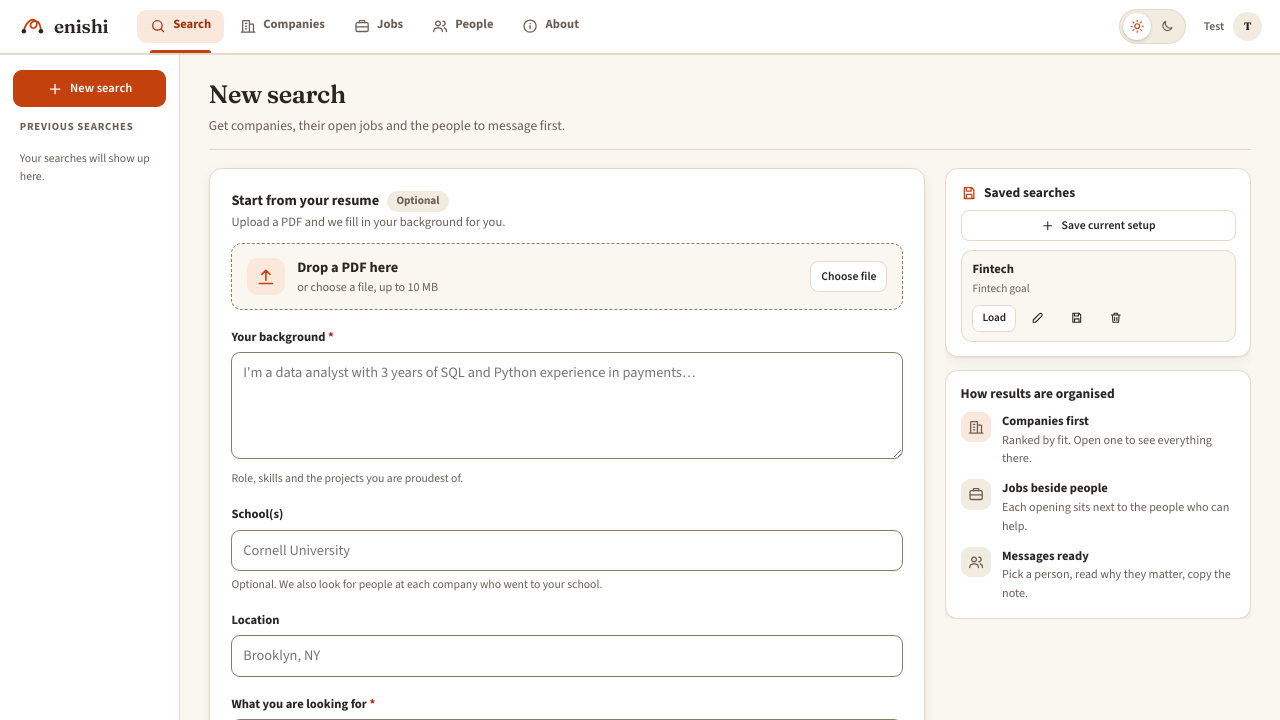
Test case: search configurations panel › renames inline: empty names are refused and Escape cancels
Click the button named "Rename Fintech": (1038, 318) x1=1022 y1=305 x2=1055 y2=332
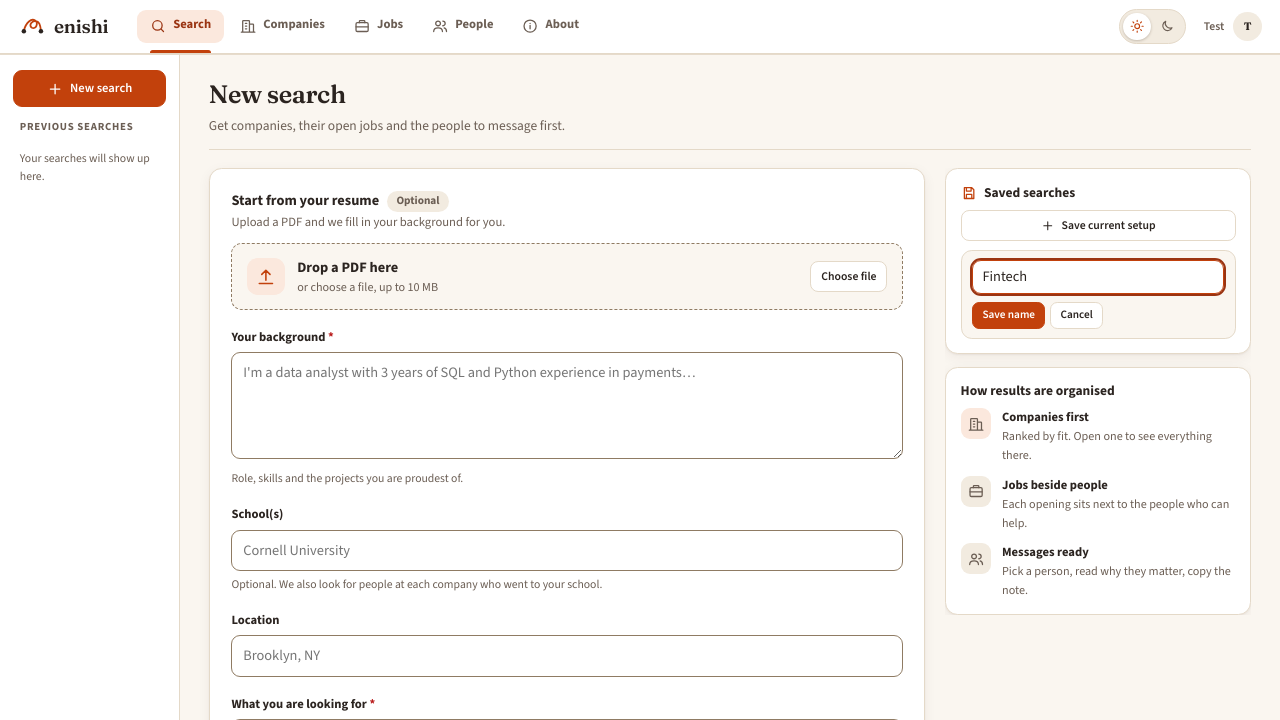
Clear the field named "Configuration name": (1098, 277) x1=972 y1=260 x2=1224 y2=294
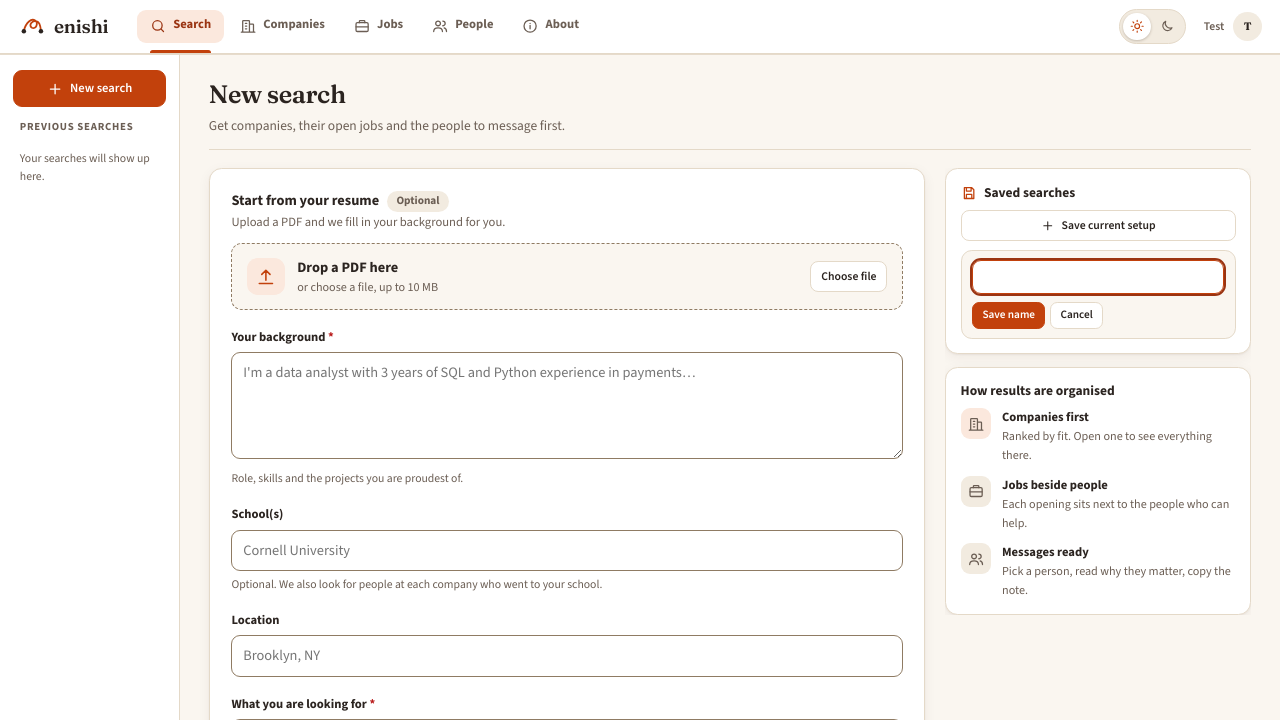
Press Enter
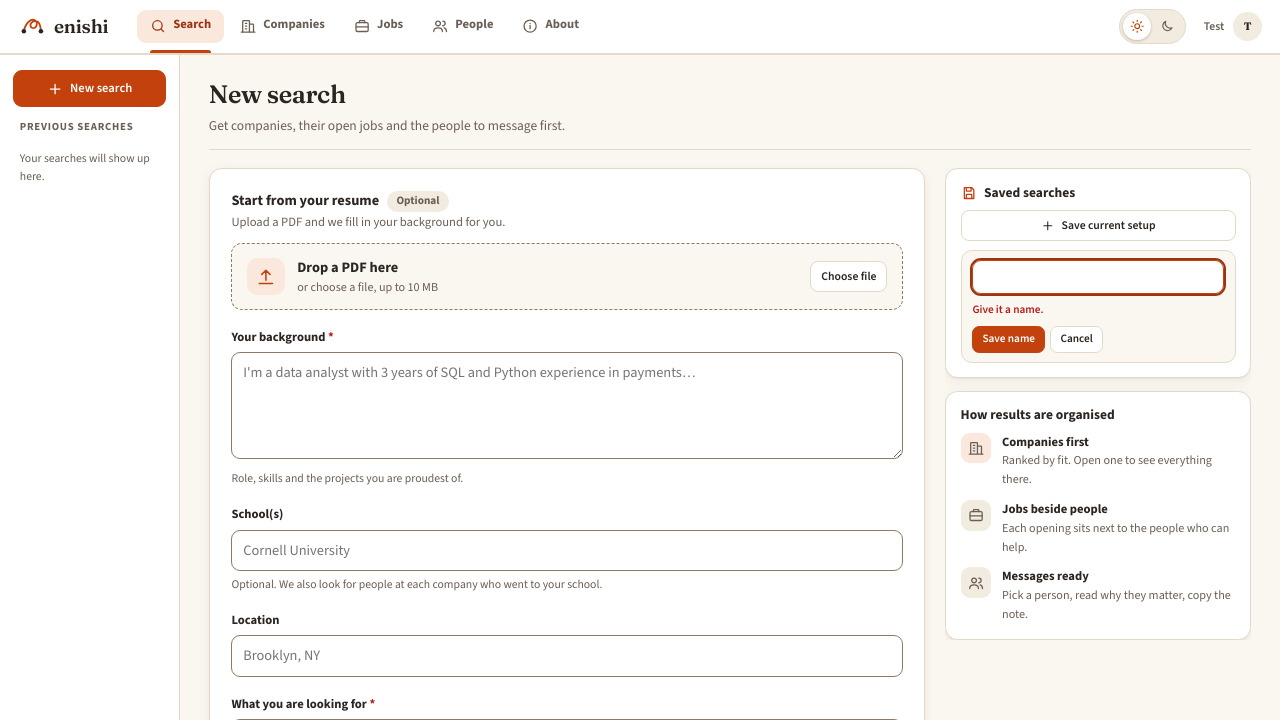
Expected: the text "Give it a name." is shown, x1=972 y1=302 x2=1044 y2=316
In the field named "Configuration name": (1098, 277) x1=972 y1=260 x2=1224 y2=294, type "Other"
Then press Escape
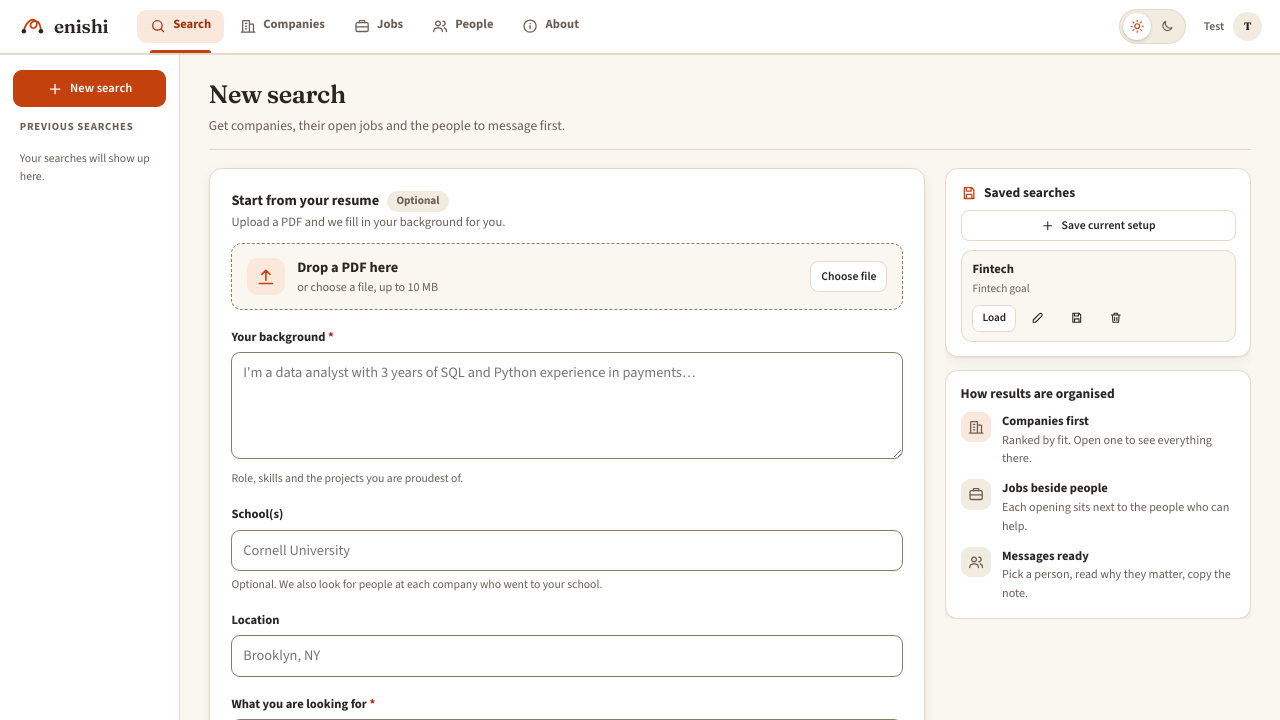
Expected: the button with aria-label "Load Fintech" is shown, x1=972 y1=305 x2=1016 y2=332
